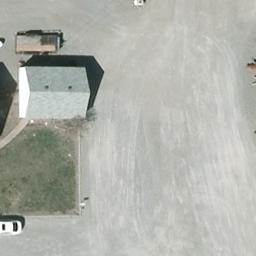car: (0, 220, 22, 236)
